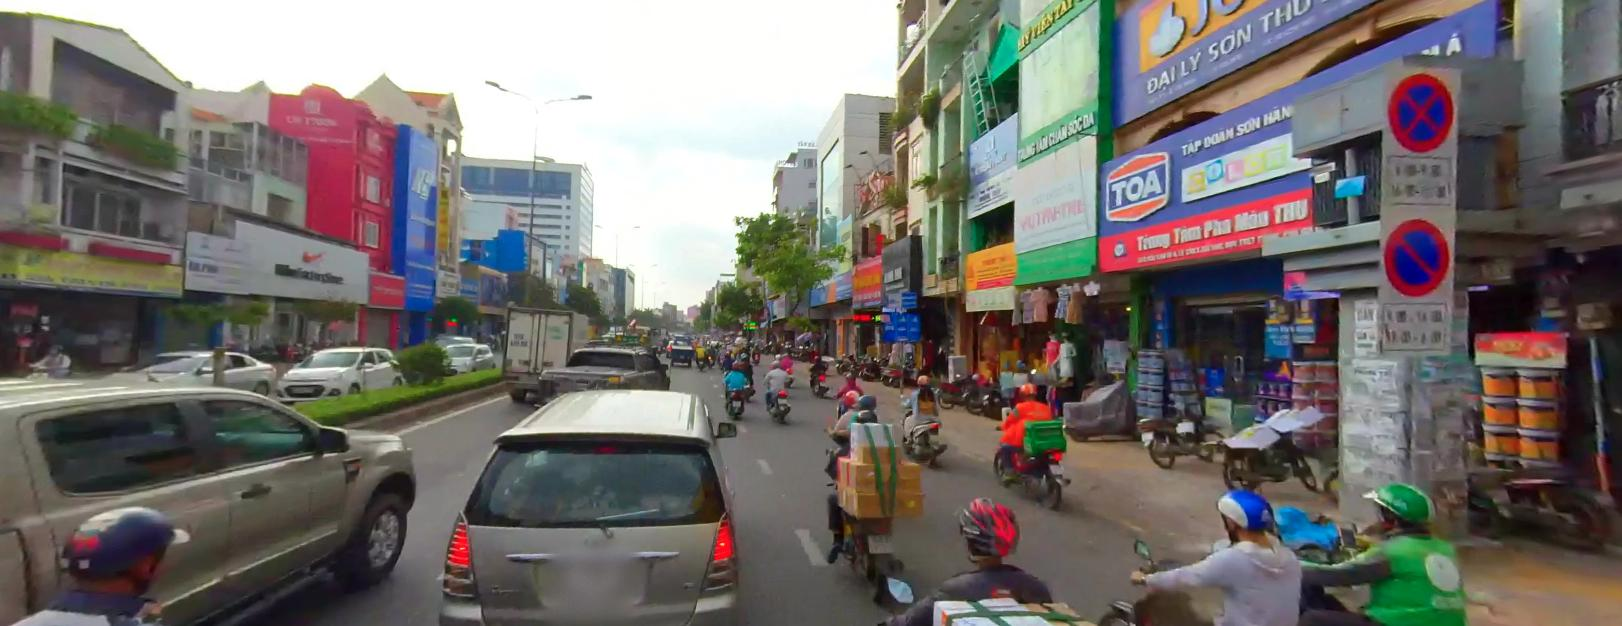Cam dung va do: (1379, 211, 1451, 293), (1389, 72, 1453, 148)
